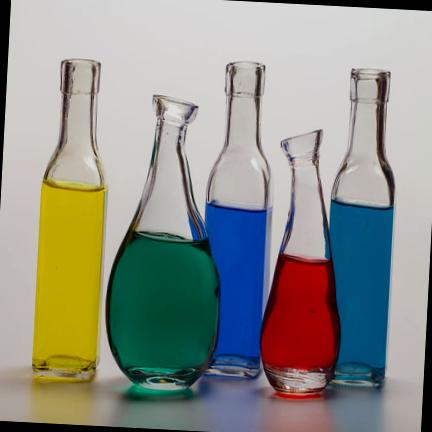container: (105, 95, 219, 394), (32, 58, 107, 381), (204, 62, 271, 378), (261, 129, 340, 397), (329, 70, 394, 386)
fluid: (106, 229, 219, 390), (33, 181, 105, 369), (330, 199, 394, 384), (259, 254, 341, 390), (204, 205, 267, 367)
fluid-surface: (207, 198, 275, 211), (332, 196, 395, 210), (133, 229, 206, 241), (44, 180, 106, 192)
